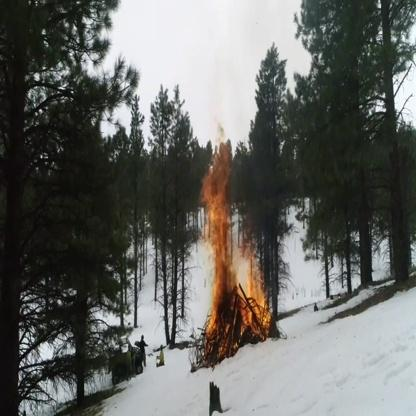Fire: (194, 126, 272, 365)
